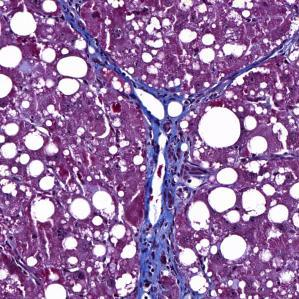fibrosis: (139, 113, 197, 221), (131, 203, 188, 295)
